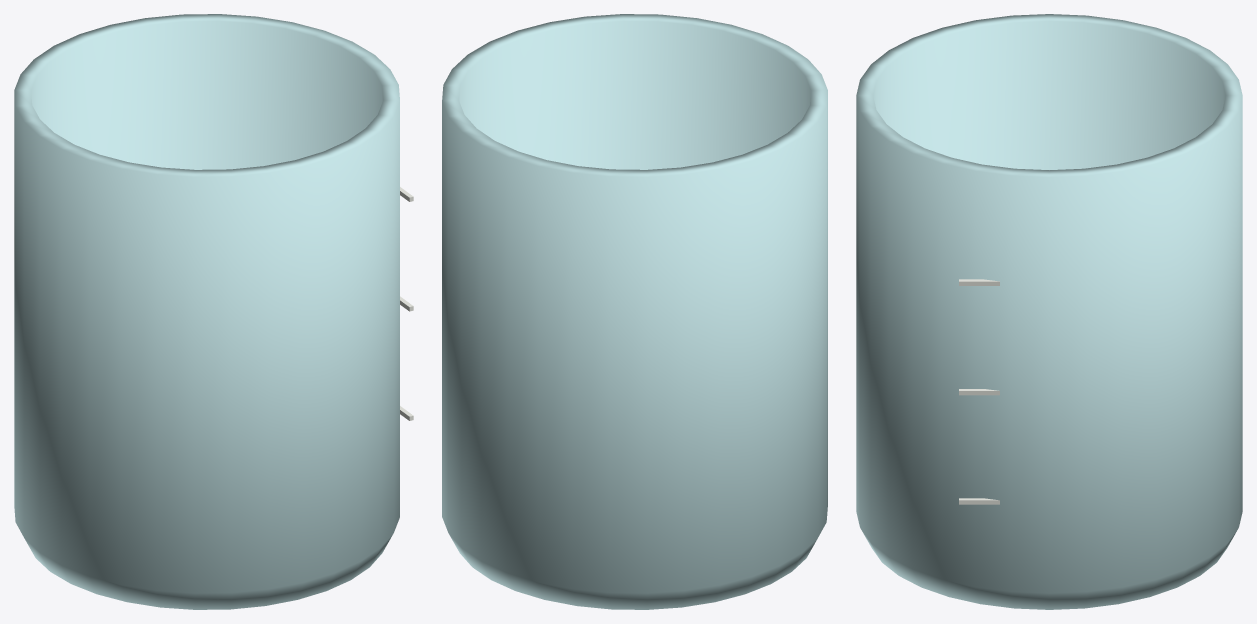
Rendered from GraduatedBeaker.fbx.
The picture shows the model from 3 angles, left to right: view 1: azimuth 30°, elevation 25°; view 2: azimuth 150°, elevation 25°; view 3: azimuth 270°, elevation 25°; orthographic projection.
Parts seen in each view (by area): view 1: Beaker; view 2: Beaker; view 3: Beaker.
Part boxes in pixels (box(x1,y1,x2,y2)): Beaker: box(14, 14, 399, 609); Beaker: box(442, 14, 827, 609); Beaker: box(856, 14, 1242, 609).
Bounding box in the file's own units: 16 × 20 × 16.
